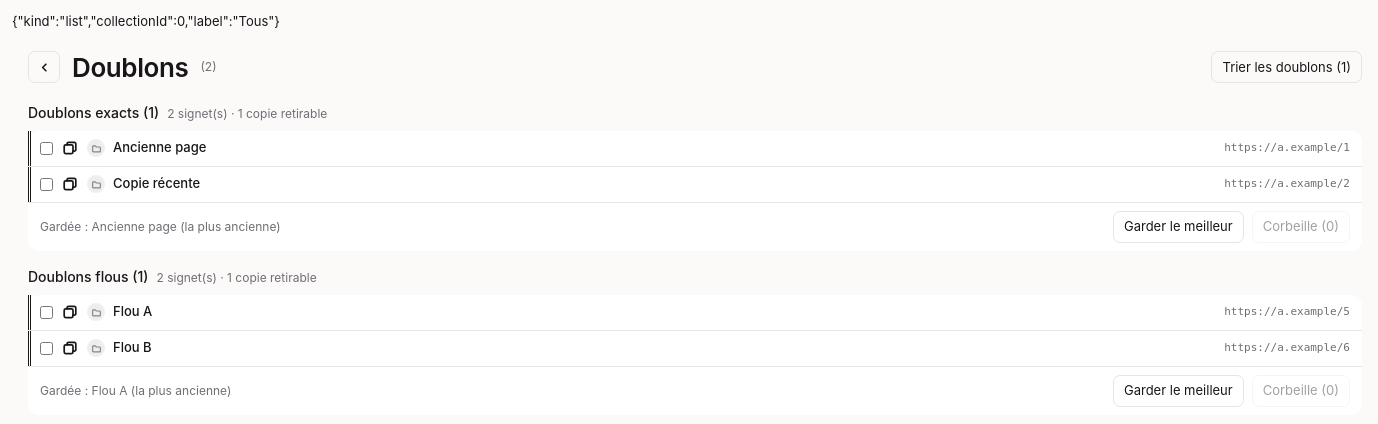
doublons — la garde, le gardé, et le tri › LA GARDE : cocher une copie sur deux verrouille la dernière restante
The width and height of the screenshot is (1378, 424).
Check: the text "Ancienne page" is shown, box [113,139,206,155]
Click the checkbox named "Copie récente": (46, 184) [40,178,53,190]
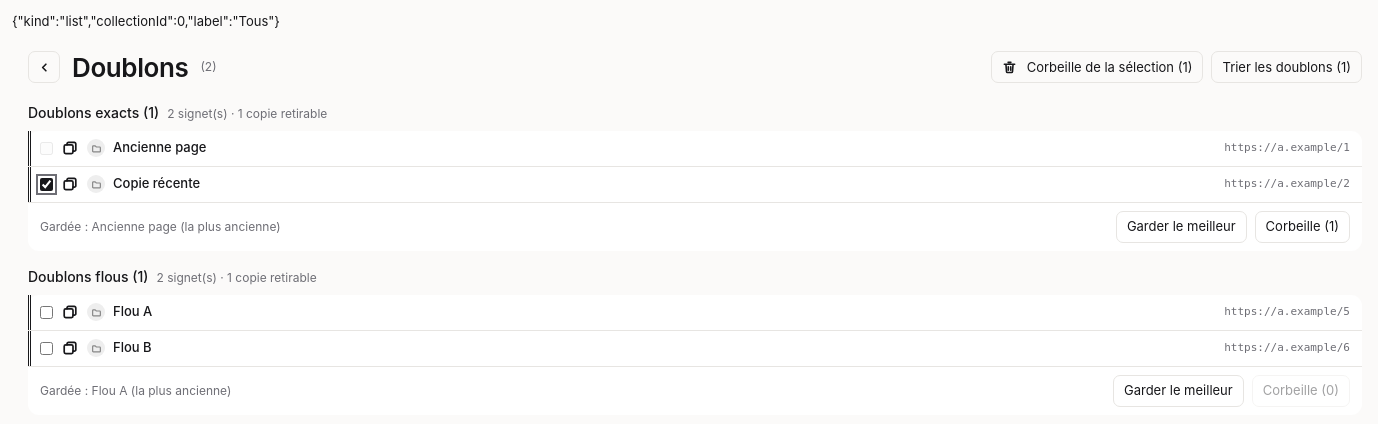
Click the checkbox named "Copie récente": (46, 184) [40,178,53,190]
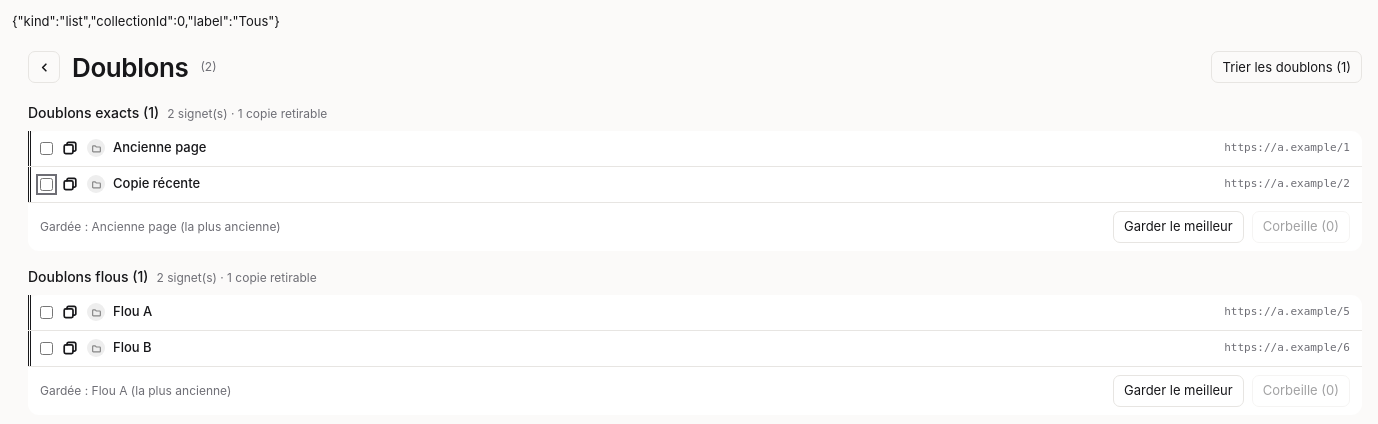
Check: the checkbox named "Ancienne page" is enabled, box [40,142,53,154]
